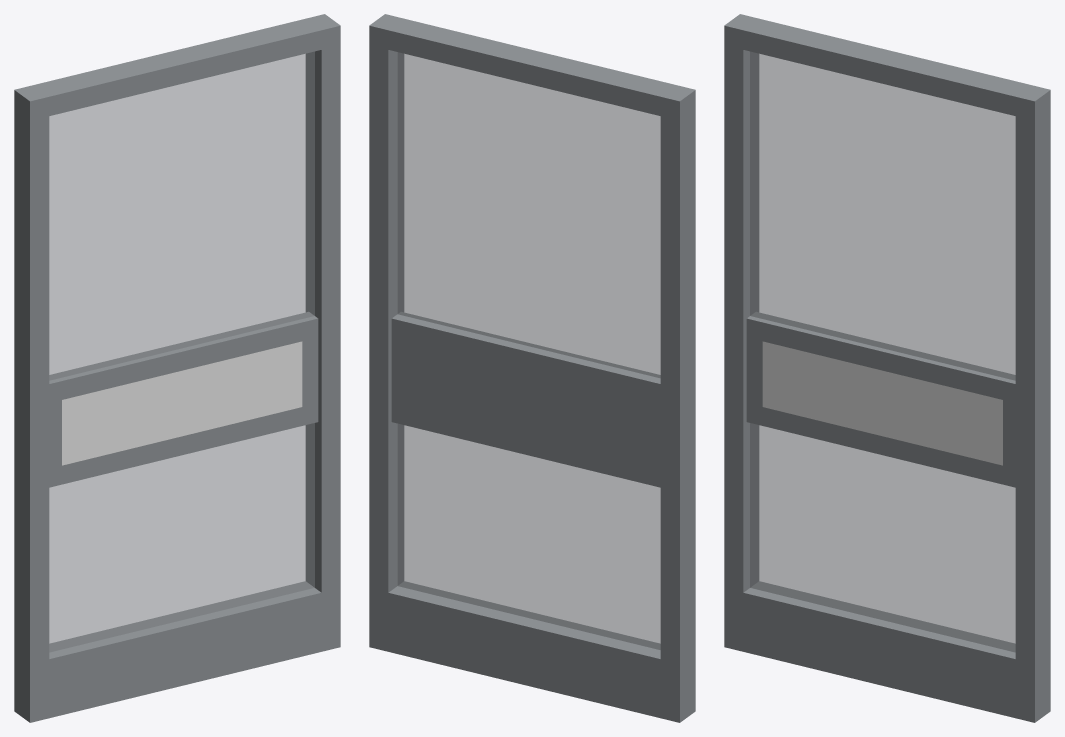
File: SM_Bld_Shop_02_Door_L.obj
3 renders of one model, left to right at view 1: azimuth 30°, elevation 25°; view 2: azimuth 150°, elevation 25°; view 3: azimuth 330°, elevation 25°, orthographic.
Parts seen in each view (by area): view 1: SM_Bld_Shop_02_Door_L_0, SM_Bld_Shop_02_Door_L_1; view 2: SM_Bld_Shop_02_Door_L_0, SM_Bld_Shop_02_Door_L_1; view 3: SM_Bld_Shop_02_Door_L_0, SM_Bld_Shop_02_Door_L_1.
Boxes of the visible parts, <box> form: SM_Bld_Shop_02_Door_L_0: <box>49,51,314,652</box>; SM_Bld_Shop_02_Door_L_1: <box>14,14,340,722</box>; SM_Bld_Shop_02_Door_L_0: <box>397,52,660,649</box>; SM_Bld_Shop_02_Door_L_1: <box>369,14,695,722</box>; SM_Bld_Shop_02_Door_L_0: <box>750,51,1015,652</box>; SM_Bld_Shop_02_Door_L_1: <box>724,14,1050,722</box>.
Bounding box in the file's own units: 1.18 × 2.25 × 0.1043.
2 materials, 2 textured.
